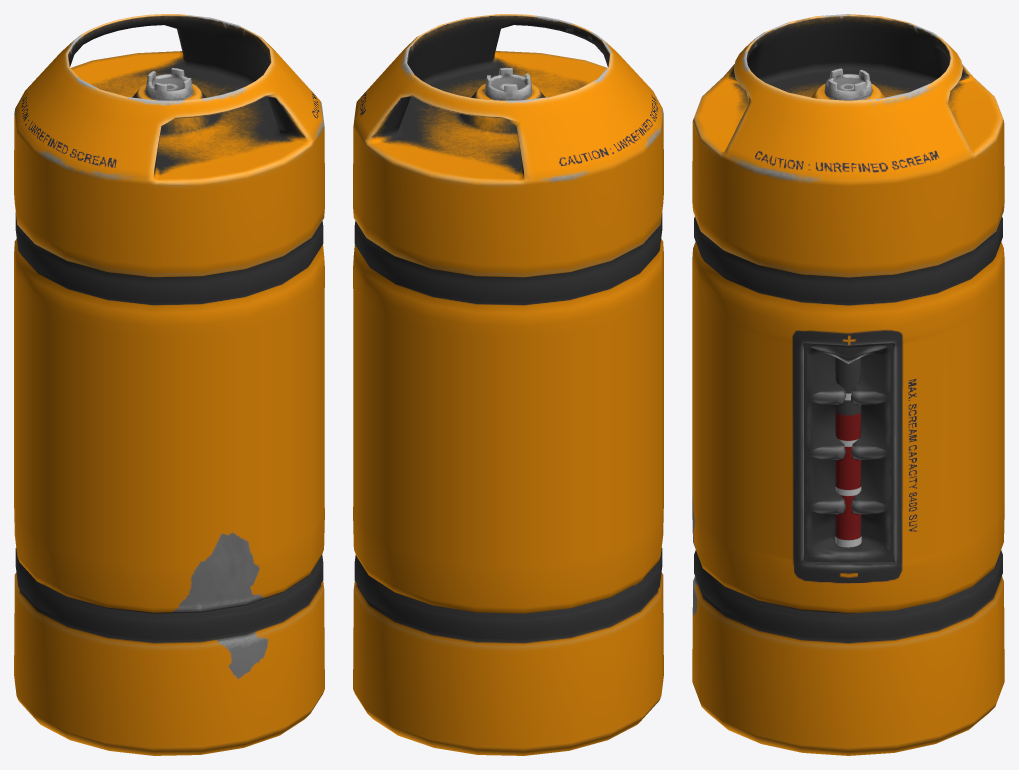
File: battery.FBX
3 renders of one model, left to right at view 1: azimuth 30°, elevation 25°; view 2: azimuth 150°, elevation 25°; view 3: azimuth 270°, elevation 25°, orthographic.
Visible parts, largest first — view 1: polySurface5; view 2: polySurface5; view 3: polySurface5.
Part boxes in pixels (x1,y1,x2,y2): polySurface5: [14, 14, 324, 755]; polySurface5: [353, 14, 663, 755]; polySurface5: [692, 14, 1004, 755].
Size of the model in its own units: 29.14 by 66.1 by 29.12.
1 material, 1 textured.
